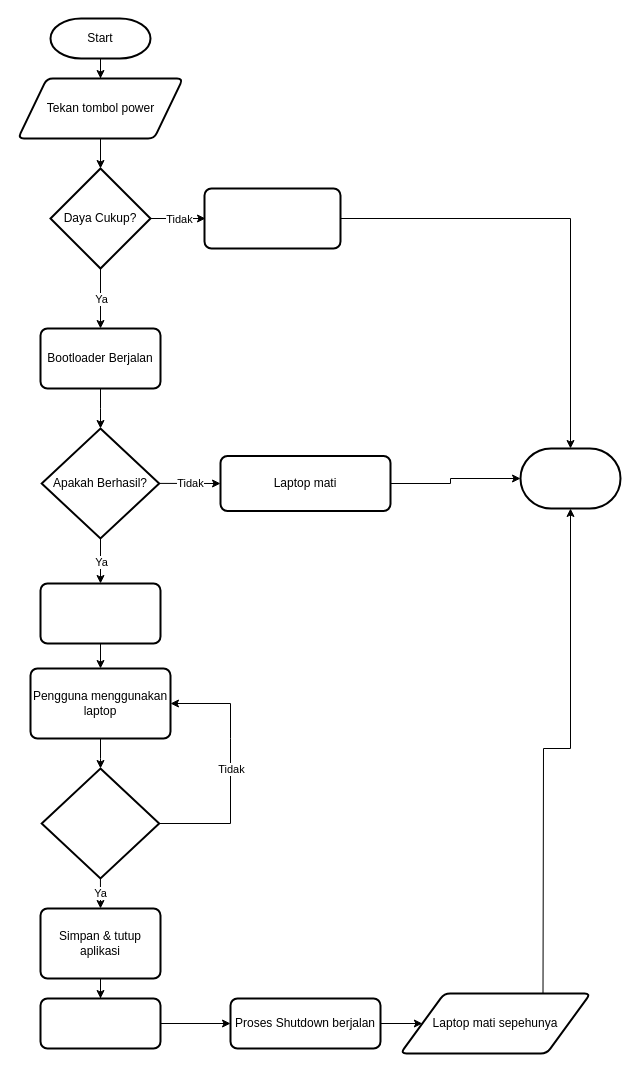
This 639x1071 diagram has some shape labels left out. Here are the shapes that lost their labels. From the top down, the centre of each, then its label:
At pixel 272 218: "Laptop mati otomatis".
At pixel 570 478: "End".
At pixel 100 613: "Masuk ke Desktop".
At pixel 100 823: "Matikan Laptop?".
At pixel 100 1023: "Tekan Shutdown laptop".
